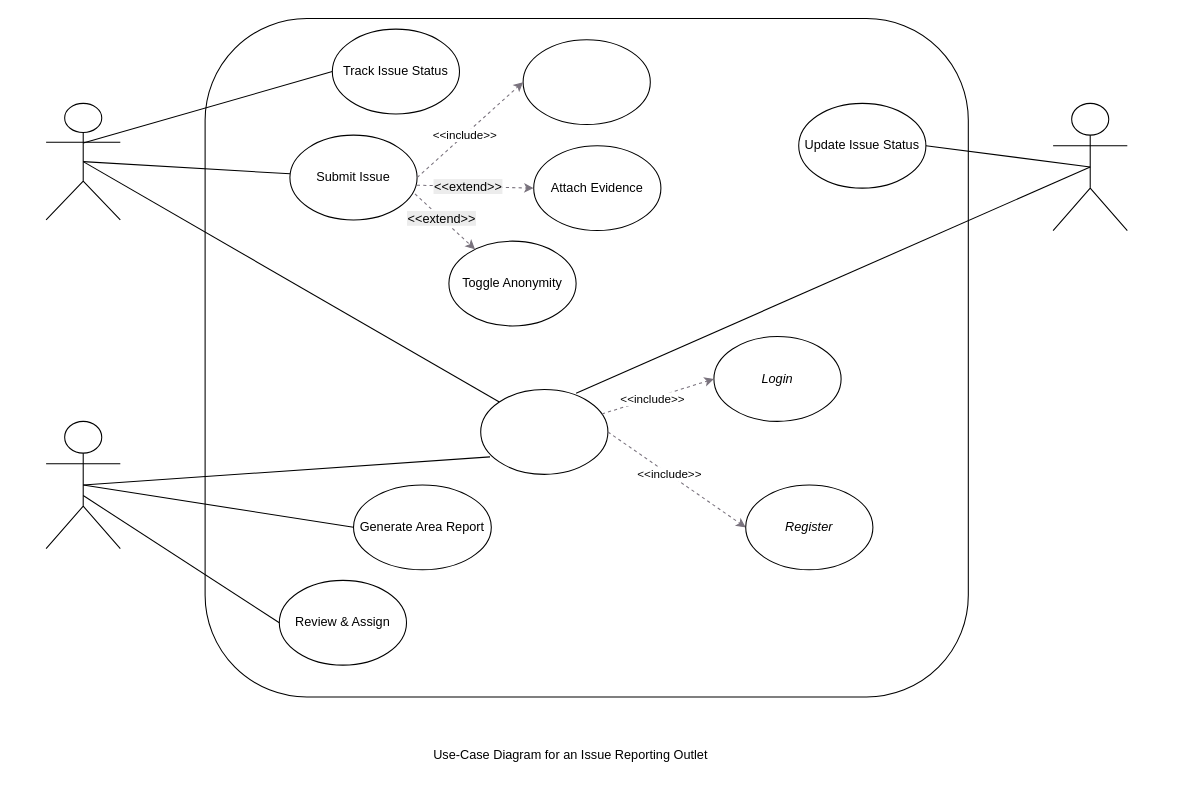
Image size: 1185x790. Some labels were removed from this diagram. The shapes that lost their labels are listed below. From the top down, each one's centre as x and y in pixels, then its label:
point (586, 82): Choose Location
point (82, 161): Reporter ( Student and Indigene )
point (1089, 166): Community Liaison (SUG Rep, Local Authority)
point (544, 431): Authenticate User
point (82, 484): System Administrator
